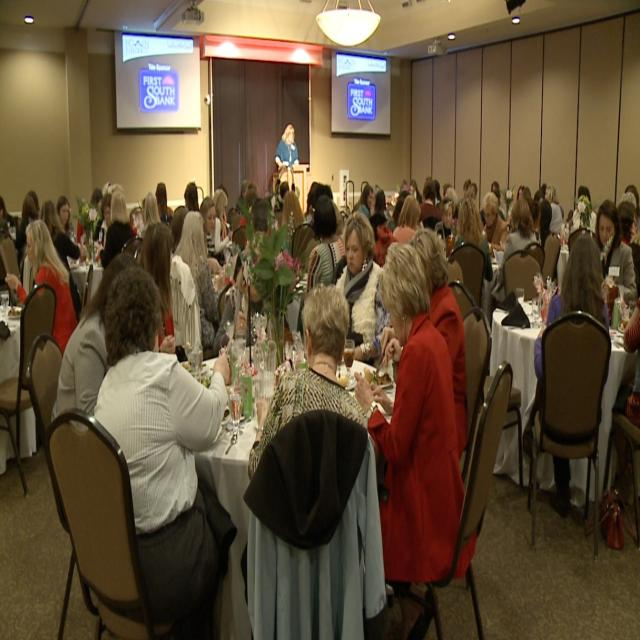body: (88, 261, 240, 639), (351, 240, 468, 590), (526, 232, 610, 519), (248, 281, 367, 481), (379, 225, 469, 464), (49, 249, 140, 426), (3, 218, 78, 360), (335, 212, 391, 368), (170, 210, 220, 353), (593, 199, 639, 328), (489, 196, 538, 312), (397, 174, 506, 224), (138, 221, 178, 354), (40, 198, 82, 316), (567, 177, 640, 244), (307, 192, 347, 294), (612, 294, 640, 424), (453, 195, 494, 283), (96, 186, 136, 272), (515, 177, 551, 253), (616, 199, 640, 301), (206, 187, 234, 267), (13, 192, 40, 272), (306, 178, 344, 234), (480, 190, 510, 260), (245, 181, 281, 231), (434, 195, 459, 264), (393, 193, 426, 245), (274, 122, 300, 174), (417, 175, 444, 225), (367, 186, 389, 244), (169, 206, 192, 258), (92, 192, 113, 248), (234, 178, 252, 241), (0, 193, 12, 285), (56, 195, 78, 245), (386, 188, 411, 232), (141, 189, 162, 240), (544, 184, 565, 235), (274, 163, 296, 211), (282, 190, 306, 232), (350, 183, 376, 221), (200, 196, 216, 256), (155, 182, 174, 229), (88, 180, 125, 204), (250, 197, 270, 233), (184, 180, 200, 212), (25, 188, 39, 210), (214, 179, 230, 198)
